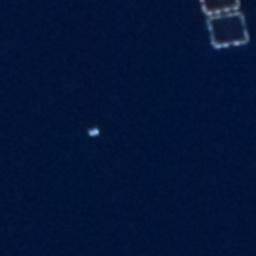square_solid: (204, 9, 252, 51), (195, 1, 244, 17)
